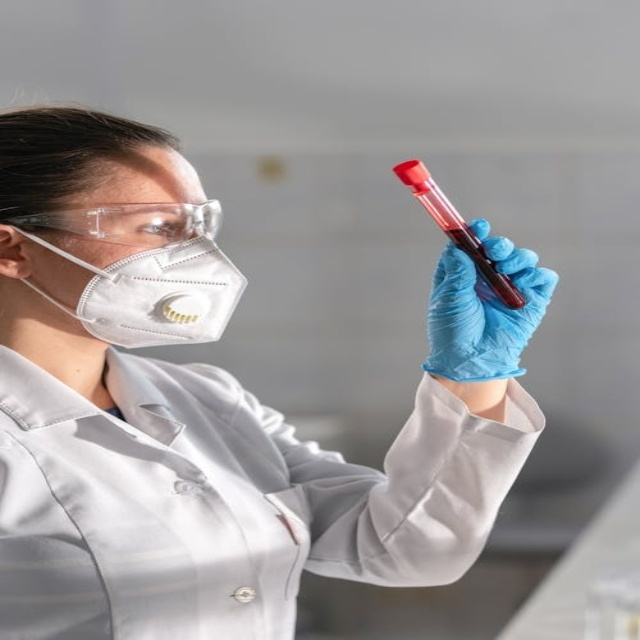Gafas: (2, 201, 228, 247)
Guantes: (420, 218, 556, 383)
Mascara: (7, 209, 248, 349)
